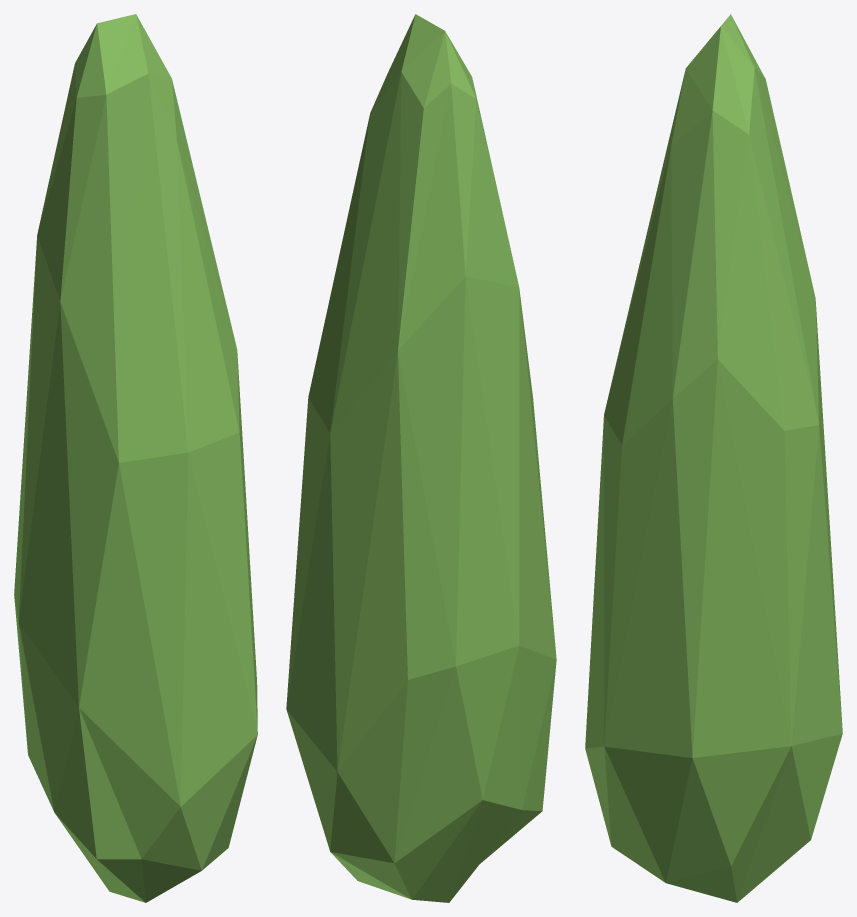
Rendered from Thuja_BushTree_m_02.fbx.
The picture shows the model from 3 angles, left to right: view 1: azimuth 30°, elevation 25°; view 2: azimuth 150°, elevation 25°; view 3: azimuth 270°, elevation 25°; orthographic projection. The views are drawn at different scales.
Visible parts, largest first — view 1: Thuja_BushTree_m_02; view 2: Thuja_BushTree_m_02; view 3: Thuja_BushTree_m_02.
Boxes of the visible parts, x1,y1,x2,y2 form: Thuja_BushTree_m_02: (14,14,257,902); Thuja_BushTree_m_02: (286,14,556,902); Thuja_BushTree_m_02: (585,14,842,902).
Size of the model in its own units: 114 by 438 by 118.
